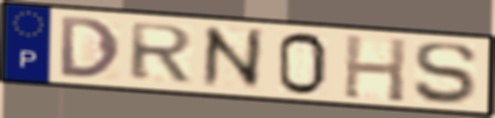0: (275, 30, 332, 96)
D: (57, 14, 124, 80)
H: (340, 32, 409, 105)
N: (200, 24, 267, 90)
R: (126, 21, 197, 84)
S: (411, 41, 480, 106)
